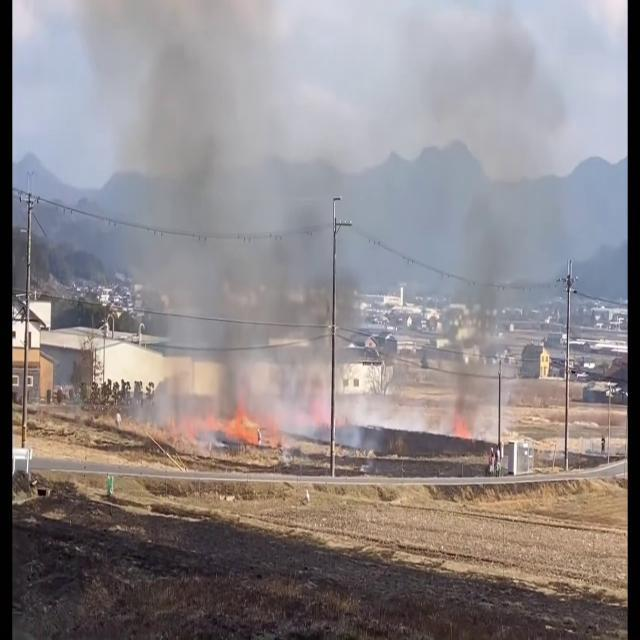Fire: (212, 408, 274, 450)
Smoke: (133, 2, 374, 435), (388, 0, 586, 405)
